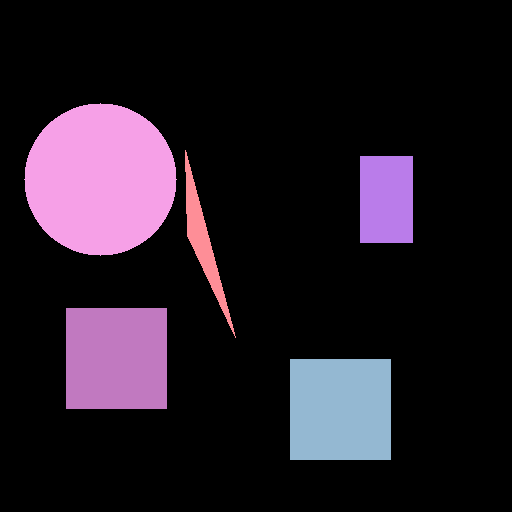circle: (24, 103, 176, 255)
rectangle: (360, 156, 412, 242)
square: (290, 359, 390, 459), (66, 308, 166, 408)
triangle: (185, 150, 235, 337)
